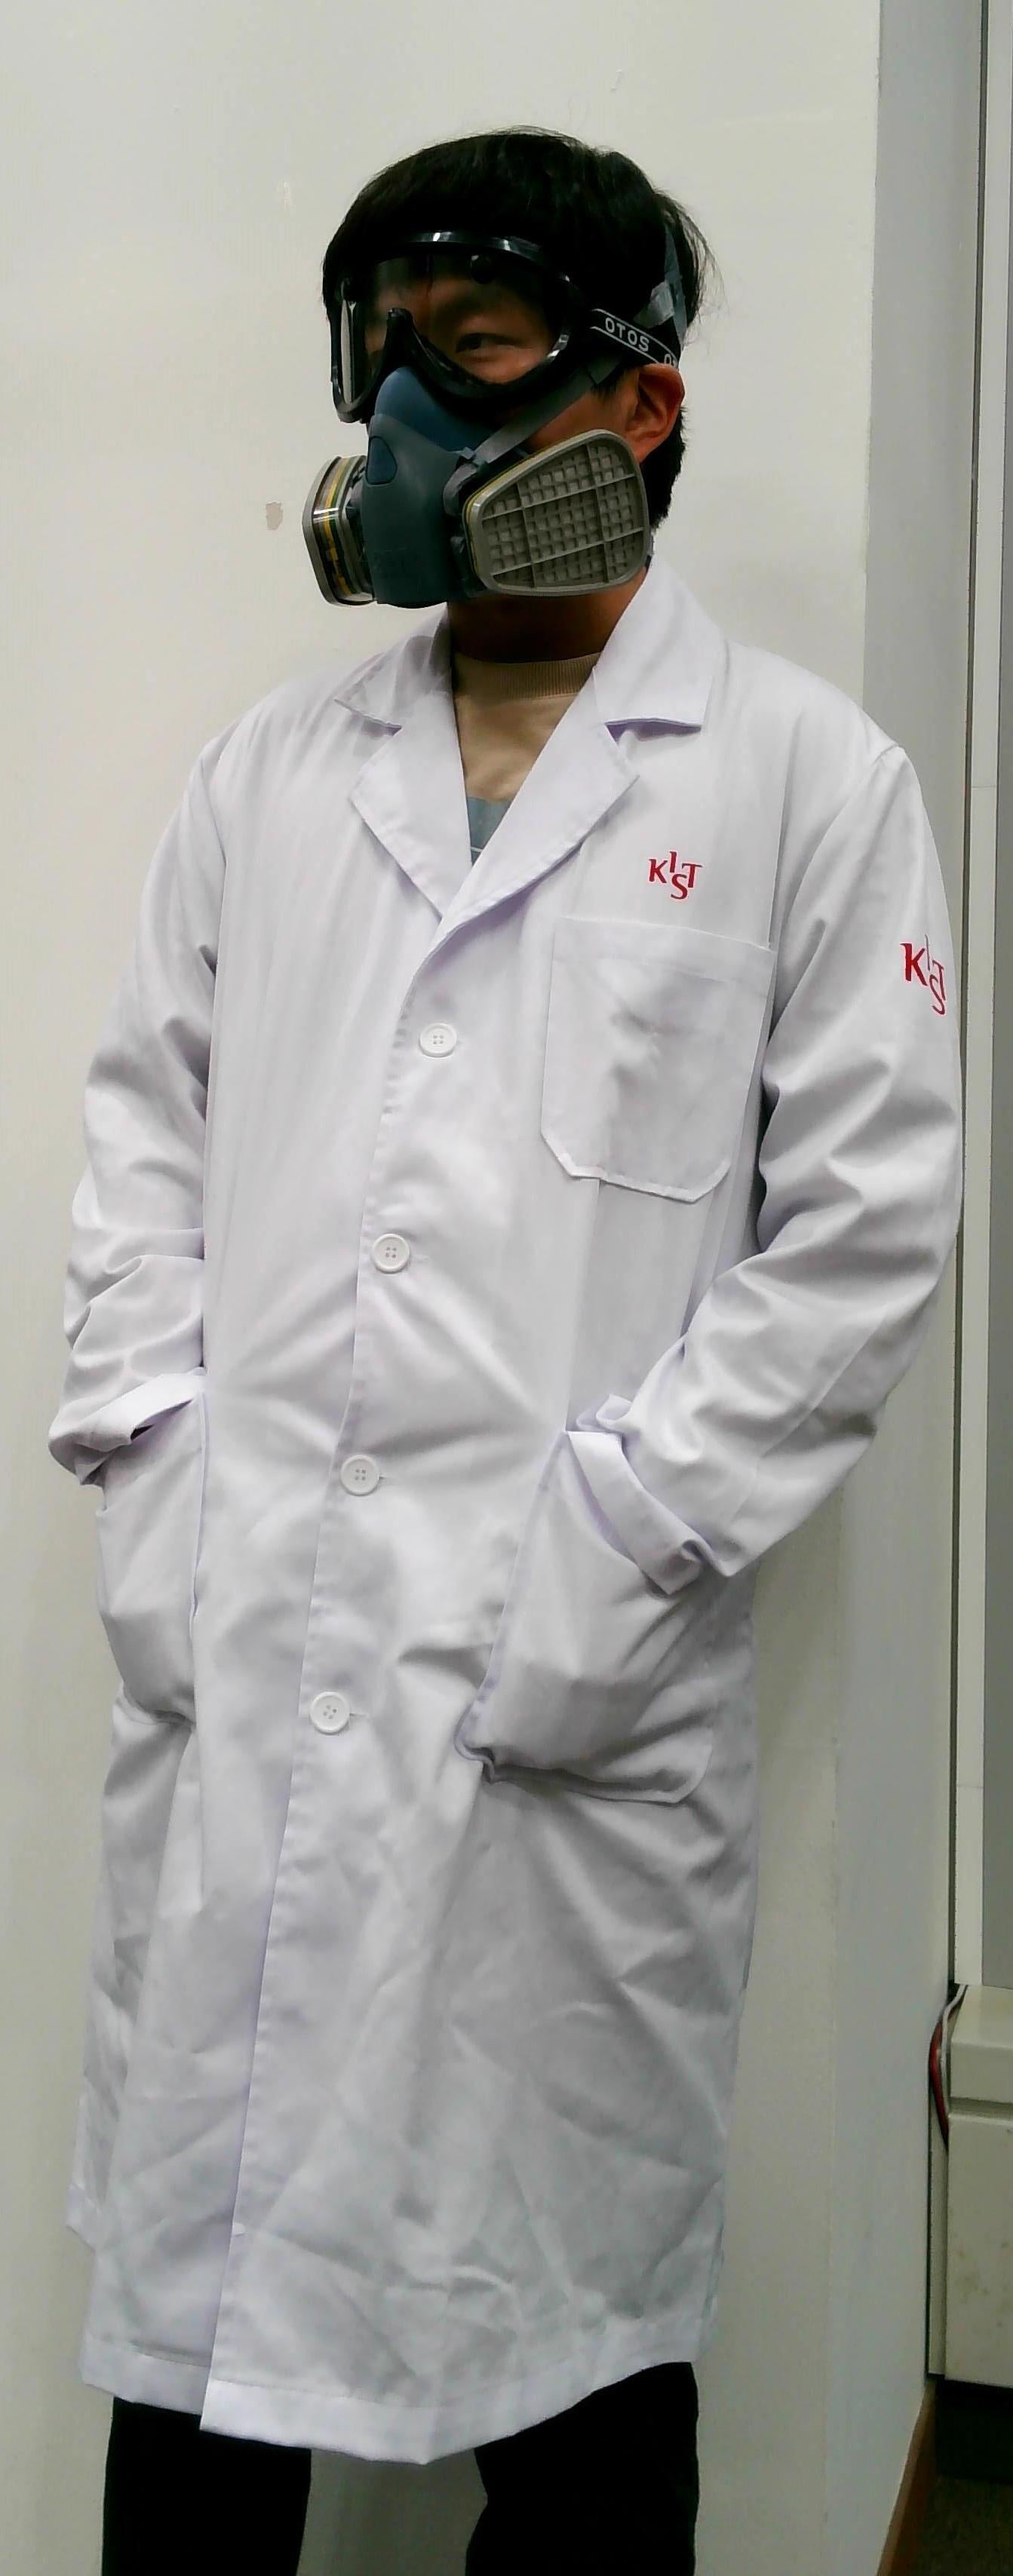lab_coat: (10, 651, 949, 2443)
